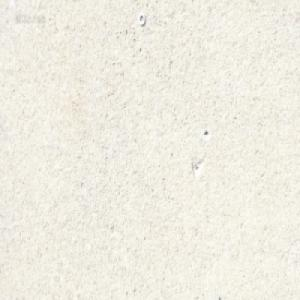Washer: (138, 12, 146, 26)
